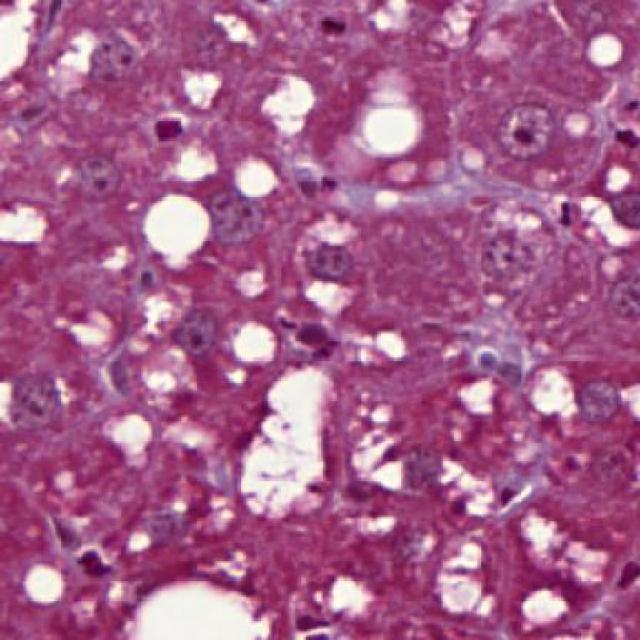ballooning: (229, 359, 345, 526)
